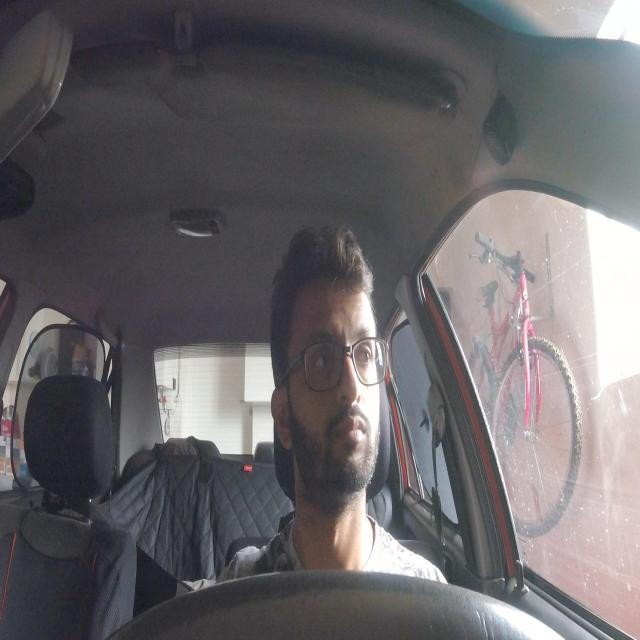open: (354, 322, 380, 381)
